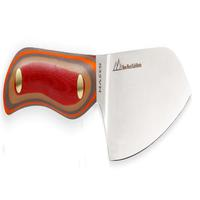knife: (3, 41, 197, 156)
